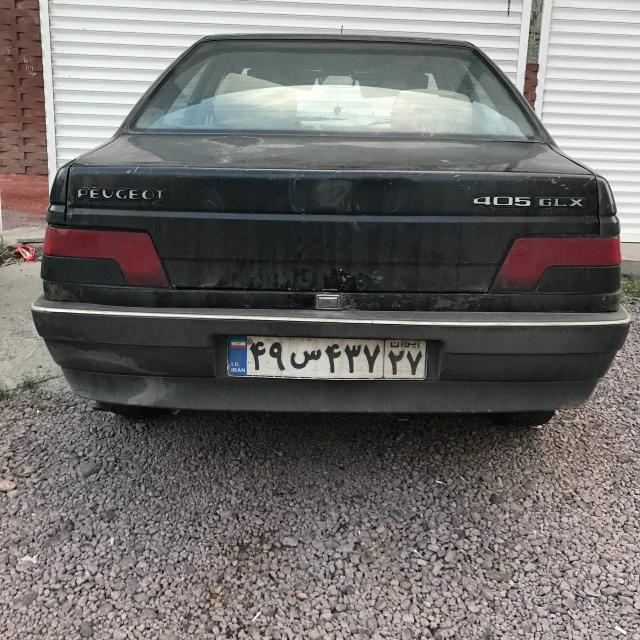Plates: (228, 336, 426, 379)
